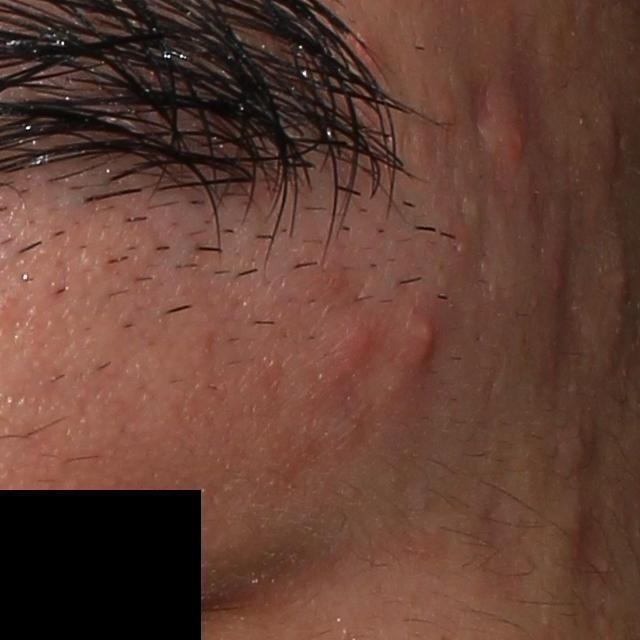papule: (320, 317, 376, 380), (493, 104, 533, 174), (403, 306, 437, 375), (541, 247, 573, 305), (602, 116, 630, 176), (606, 261, 630, 311)
